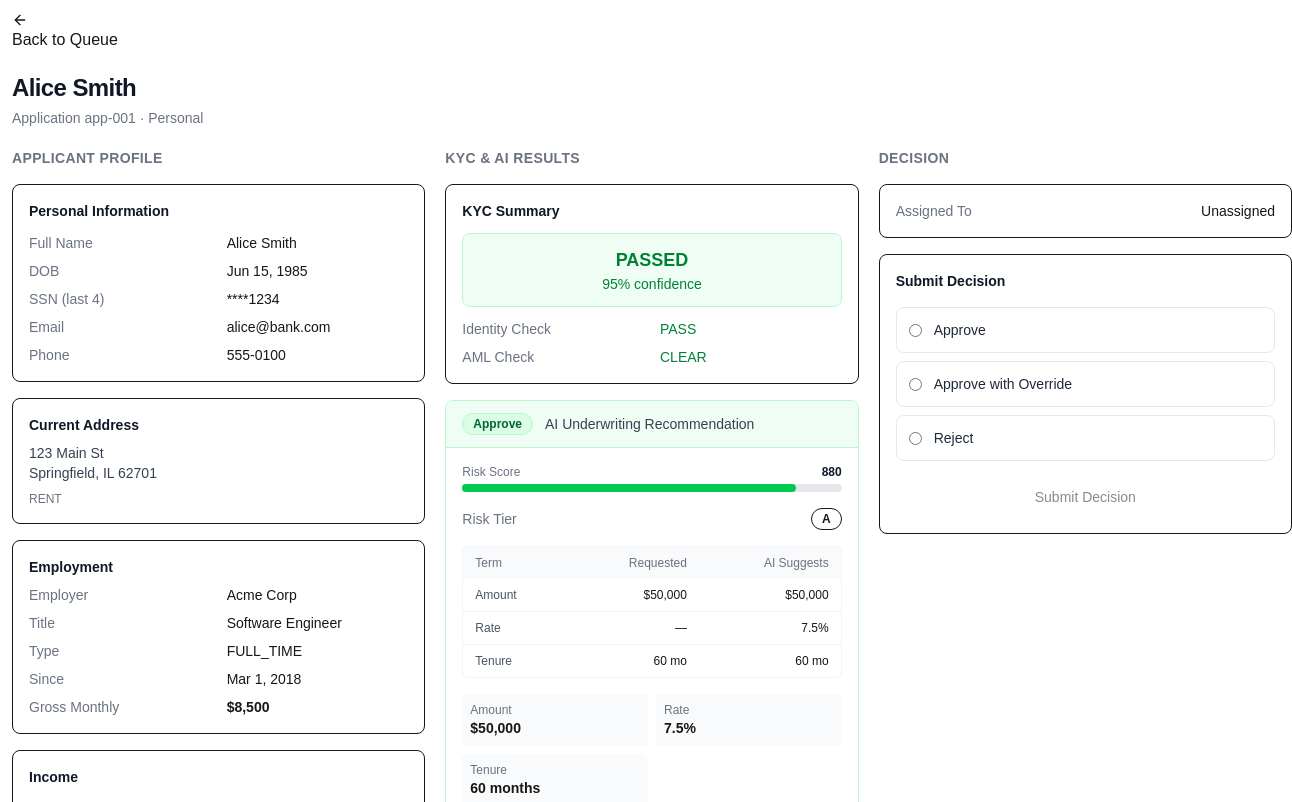
Scenario: ReviewQueueDetailPage › decision form › shows AI suggested terms when APPROVE is selected
Click the radio button labelled "Approve" at coordinates (915, 330), box left=909, top=324, right=922, bottom=336
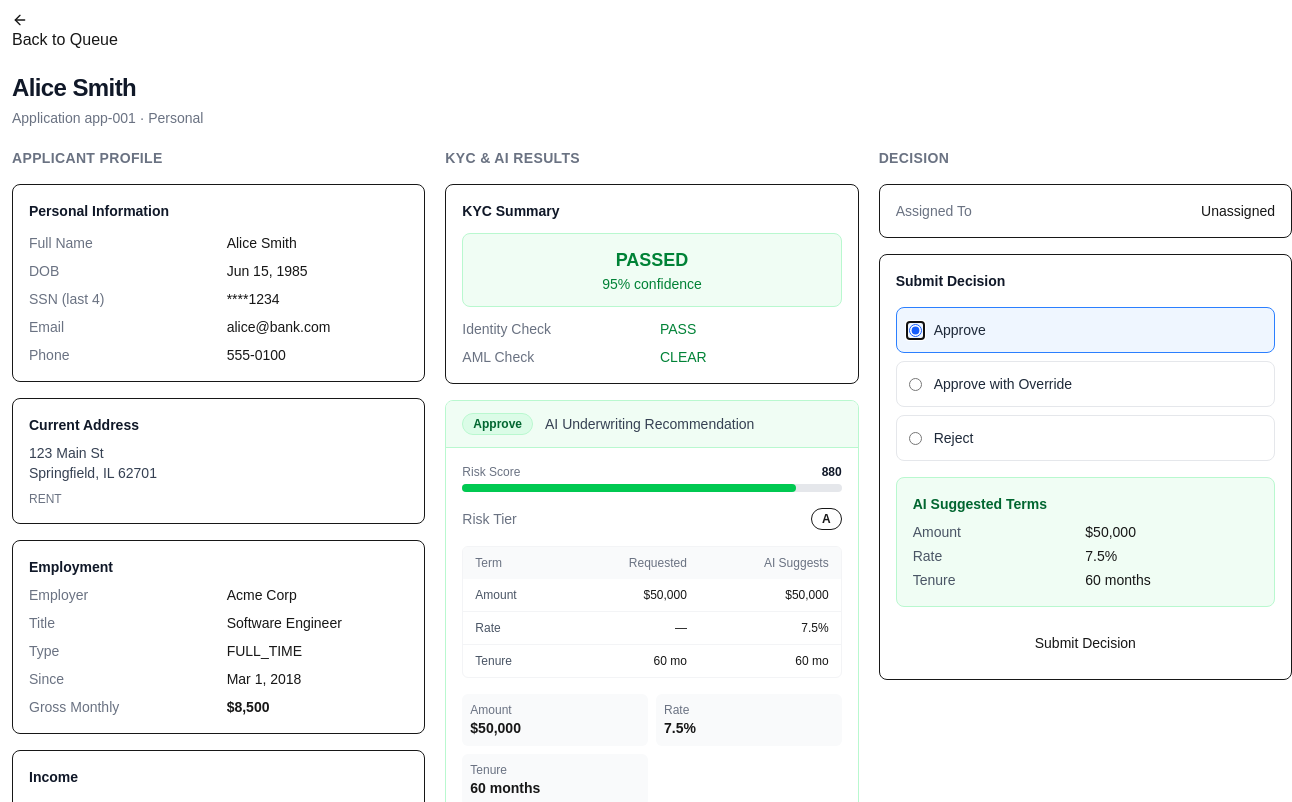
Now the text "AI Suggested Terms" is shown, box left=913, top=496, right=1047, bottom=512
